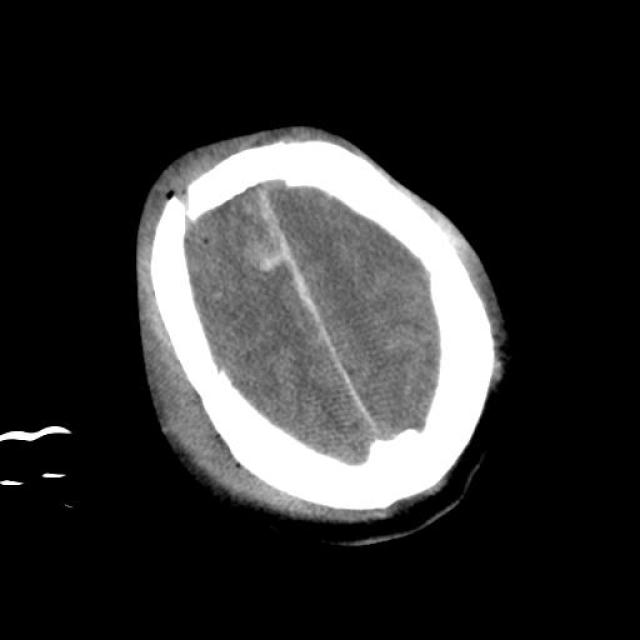Subarachnoid: (242, 242, 288, 286)
Subdural: (241, 179, 339, 321)
